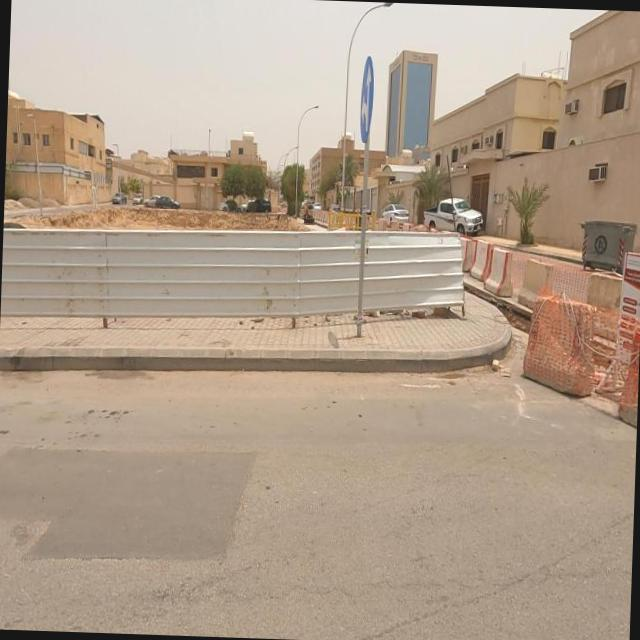debris: (469, 322, 536, 409)
